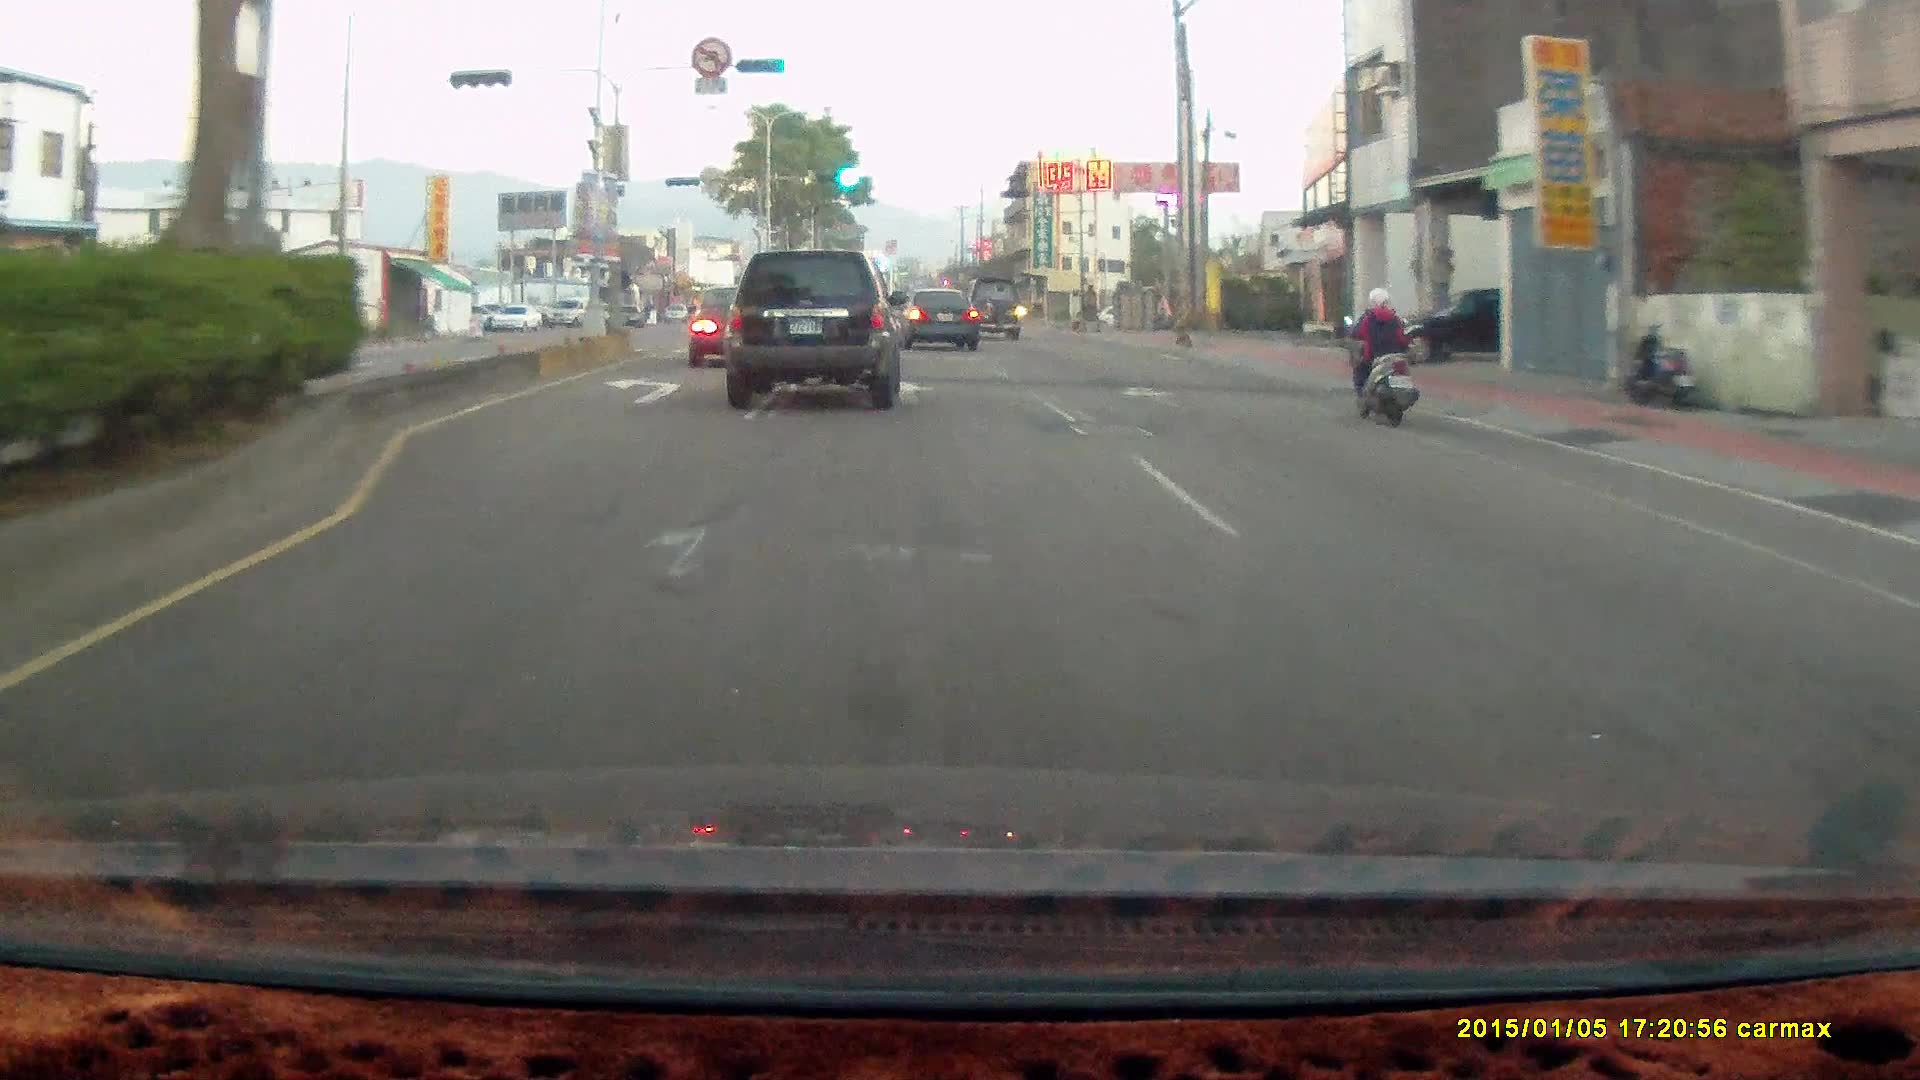rider: (1333, 276, 1431, 439), (1339, 284, 1418, 425)
vehicle: (717, 251, 905, 422), (722, 251, 908, 409), (1376, 286, 1567, 367), (1382, 288, 1512, 371), (688, 288, 798, 374), (685, 288, 792, 368), (899, 290, 982, 356), (896, 288, 979, 351), (959, 278, 1025, 344), (957, 277, 1022, 344), (487, 303, 542, 332), (545, 298, 595, 326)
